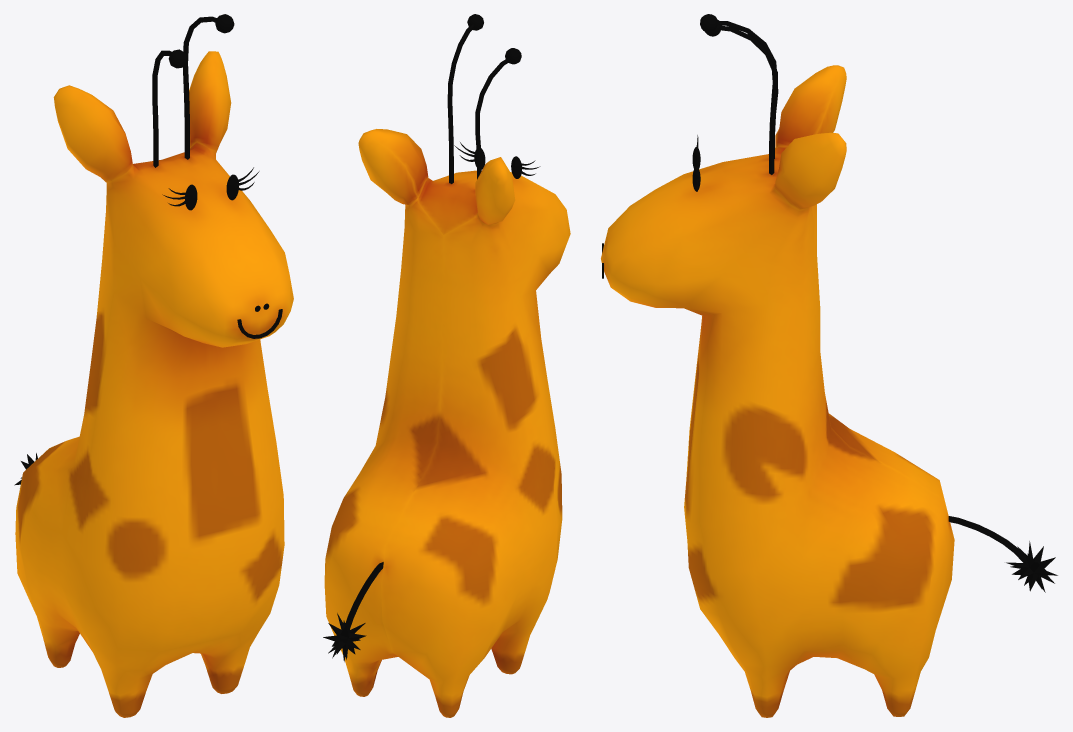
Rendered from Jiffe.glb.
The picture shows the model from 3 angles, left to right: view 1: azimuth 30°, elevation 25°; view 2: azimuth 150°, elevation 25°; view 3: azimuth 270°, elevation 25°; orthographic projection. The views are drawn at different scales.
Visible parts, largest first — view 1: polySurface9; view 2: polySurface9; view 3: polySurface9.
Part boxes in pixels (x1,y1,x2,y2): polySurface9: (14,14,293,717); polySurface9: (323,14,570,717); polySurface9: (601,14,1057,717).
Size of the model in its own units: 5.99 by 20.72 by 12.59.
Materials: 1 (1 with a texture image).
